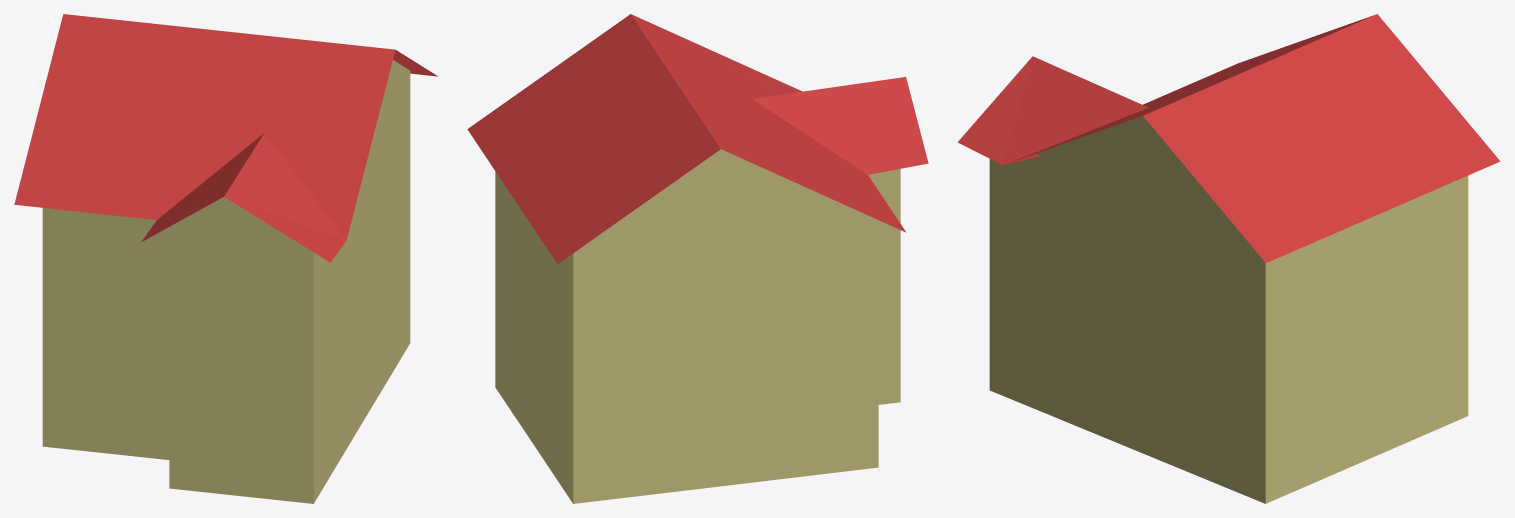
The picture shows the model from 3 angles, left to right: view 1: azimuth 30°, elevation 25°; view 2: azimuth 150°, elevation 25°; view 3: azimuth 270°, elevation 25°; orthographic projection. The views are drawn at different scales.
Parts seen in each view (by area): view 1: group_8, group_10, group_6, group_3, group_9, group_5; view 2: group_10, group_8, group_3, group_6, group_9, group_5; view 3: group_10, group_8, group_6, group_3, group_9, group_5.
Part boxes in pixels (box(x1,y1,x2,y2)): group_8: box(14, 14, 437, 239); group_10: box(42, 60, 410, 473); group_6: box(169, 197, 331, 503); group_3: box(141, 133, 346, 262); group_9: box(15, 23, 435, 238); group_5: box(143, 189, 345, 260); group_10: box(495, 149, 878, 503); group_8: box(467, 14, 906, 263); group_3: box(752, 77, 928, 174); group_6: box(868, 169, 900, 404); group_9: box(469, 16, 898, 262); group_5: box(870, 77, 927, 173); group_10: box(1036, 116, 1468, 503); group_8: box(1007, 14, 1500, 262); group_6: box(989, 156, 1040, 411); group_3: box(957, 56, 1148, 164); group_9: box(1013, 15, 1498, 260); group_5: box(960, 57, 1047, 165).
Bounding box in the file's own units: 16.27 × 17.78 × 12.69.
